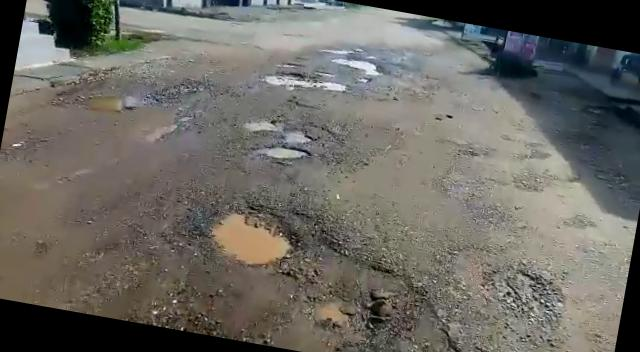pothole: (202, 202, 304, 276), (260, 64, 346, 96), (243, 115, 316, 145), (253, 138, 314, 164), (82, 89, 126, 115), (329, 54, 383, 75)
